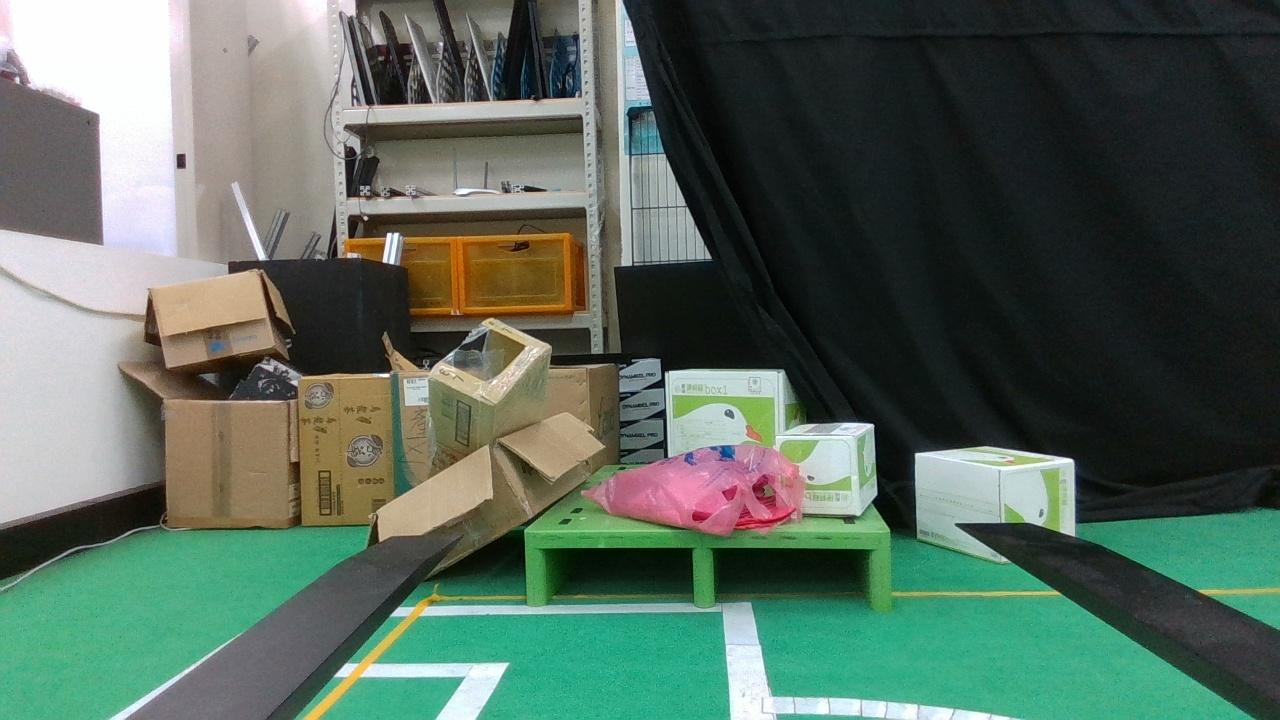Pallet: (524, 529, 892, 613)
